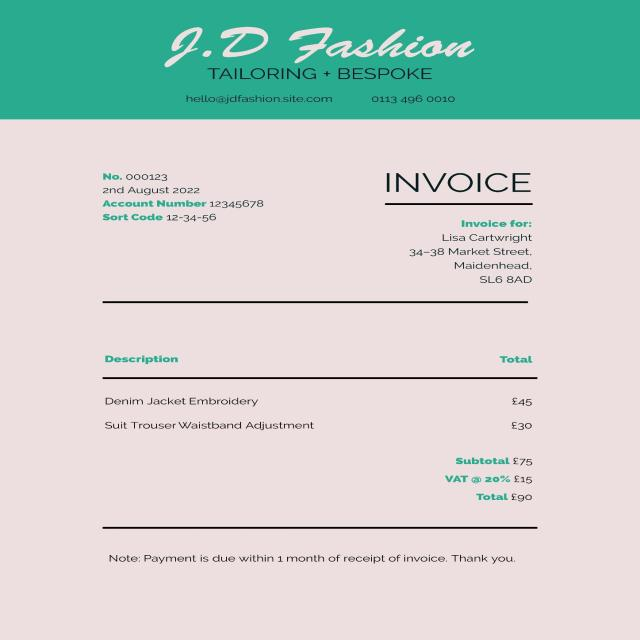paragraph: (81, 348, 551, 441), (142, 23, 500, 86), (398, 215, 550, 288), (98, 548, 524, 572), (370, 164, 544, 209), (429, 450, 553, 505), (97, 198, 268, 224), (180, 89, 345, 108), (366, 90, 466, 108), (99, 170, 177, 184), (96, 185, 202, 195), (171, 176, 175, 178)
